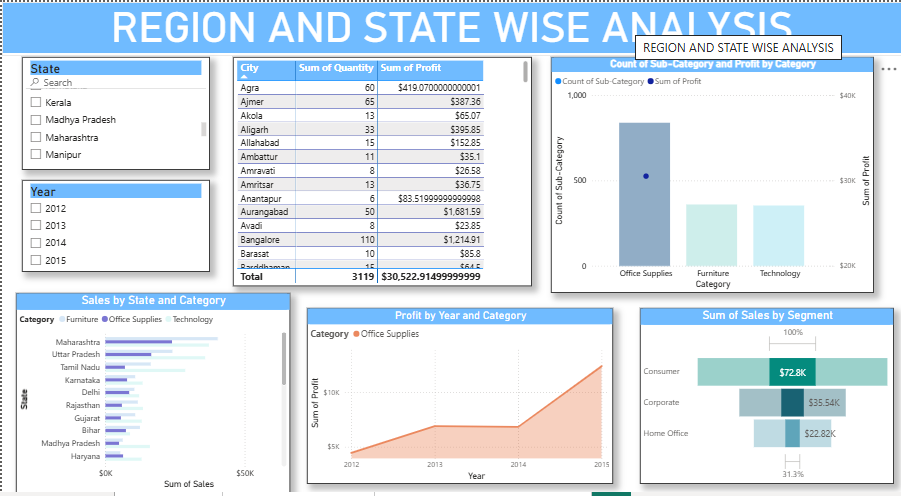

What the dashboard file says about the page in this screenshot:
{"tool":"powerbi","page":{"name":"Region wise analysis","canvas":[1500,832],"ordinal":1},"visuals":[{"type":"textbox","title":"REGION AND STATE WISE ANALYSIS","box":[0,0,1500,90],"z":0},{"type":"slicer","fields":{"Values":["Orders.State"]},"box":[23.3,90,276.7,188.3],"z":1000},{"type":"slicer","fields":{"Values":["Orders.Year"]},"box":[23.3,296.7,276.7,188.3],"z":2000},{"type":"tableEx","fields":{"Values":["Orders.City","Sum(Orders.Quantity)","Sum(Orders.Profit)"]},"box":[385,91.7,486.7,393.3],"z":3000},{"type":"clusteredBarChart","title":"Sales by State and Category","fields":{"Category":["Orders.State"],"Y":["Sum(Orders.Sales)"],"Series":["Orders.Category"]},"box":[23.3,493.3,456.7,325],"z":4000},{"type":"areaChart","title":"Profit by Year and Category","fields":{"Series":["Orders.Category"],"Y":["Sum(Orders.Profit)"],"Category":["Orders.Year"]},"box":[508.3,510,510,293.3],"z":5000},{"type":"lineClusteredColumnComboChart","title":"Count of Sub-Category and Profit by Category","fields":{"Category":["Orders.Category"],"Y":["CountNonNull(Orders.Sub-Category)"],"Y2":["Sum(Orders.Profit)"]},"box":[915,91.7,538.3,393.3],"z":6000},{"type":"funnel","fields":{"Category":["Orders.Segment"],"Y":["Sum(Orders.Sales)"]},"box":[1063.3,510,423.3,293.3],"z":7000}]}

Visuals, with their boxes in screenshot pixels (x1, y1, x2, y2), scaled from the page's 1500x832 canvas onto the 901x496 screenshot:
"REGION AND STATE WISE ANALYSIS" textbox: left=0, top=0, right=900, bottom=54
slicer - Orders.State: left=14, top=54, right=180, bottom=166
slicer - Orders.Year: left=14, top=177, right=180, bottom=289
tableEx - Orders.City x Sum(Orders.Quantity): left=231, top=55, right=524, bottom=289
"Sales by State and Category" clusteredBarChart: left=14, top=294, right=288, bottom=488
"Profit by Year and Category" areaChart: left=305, top=304, right=612, bottom=479
"Count of Sub-Category and Profit by Category" lineClusteredColumnComboChart: left=550, top=55, right=873, bottom=289
funnel - Orders.Segment x Sum(Orders.Sales): left=639, top=304, right=893, bottom=479
